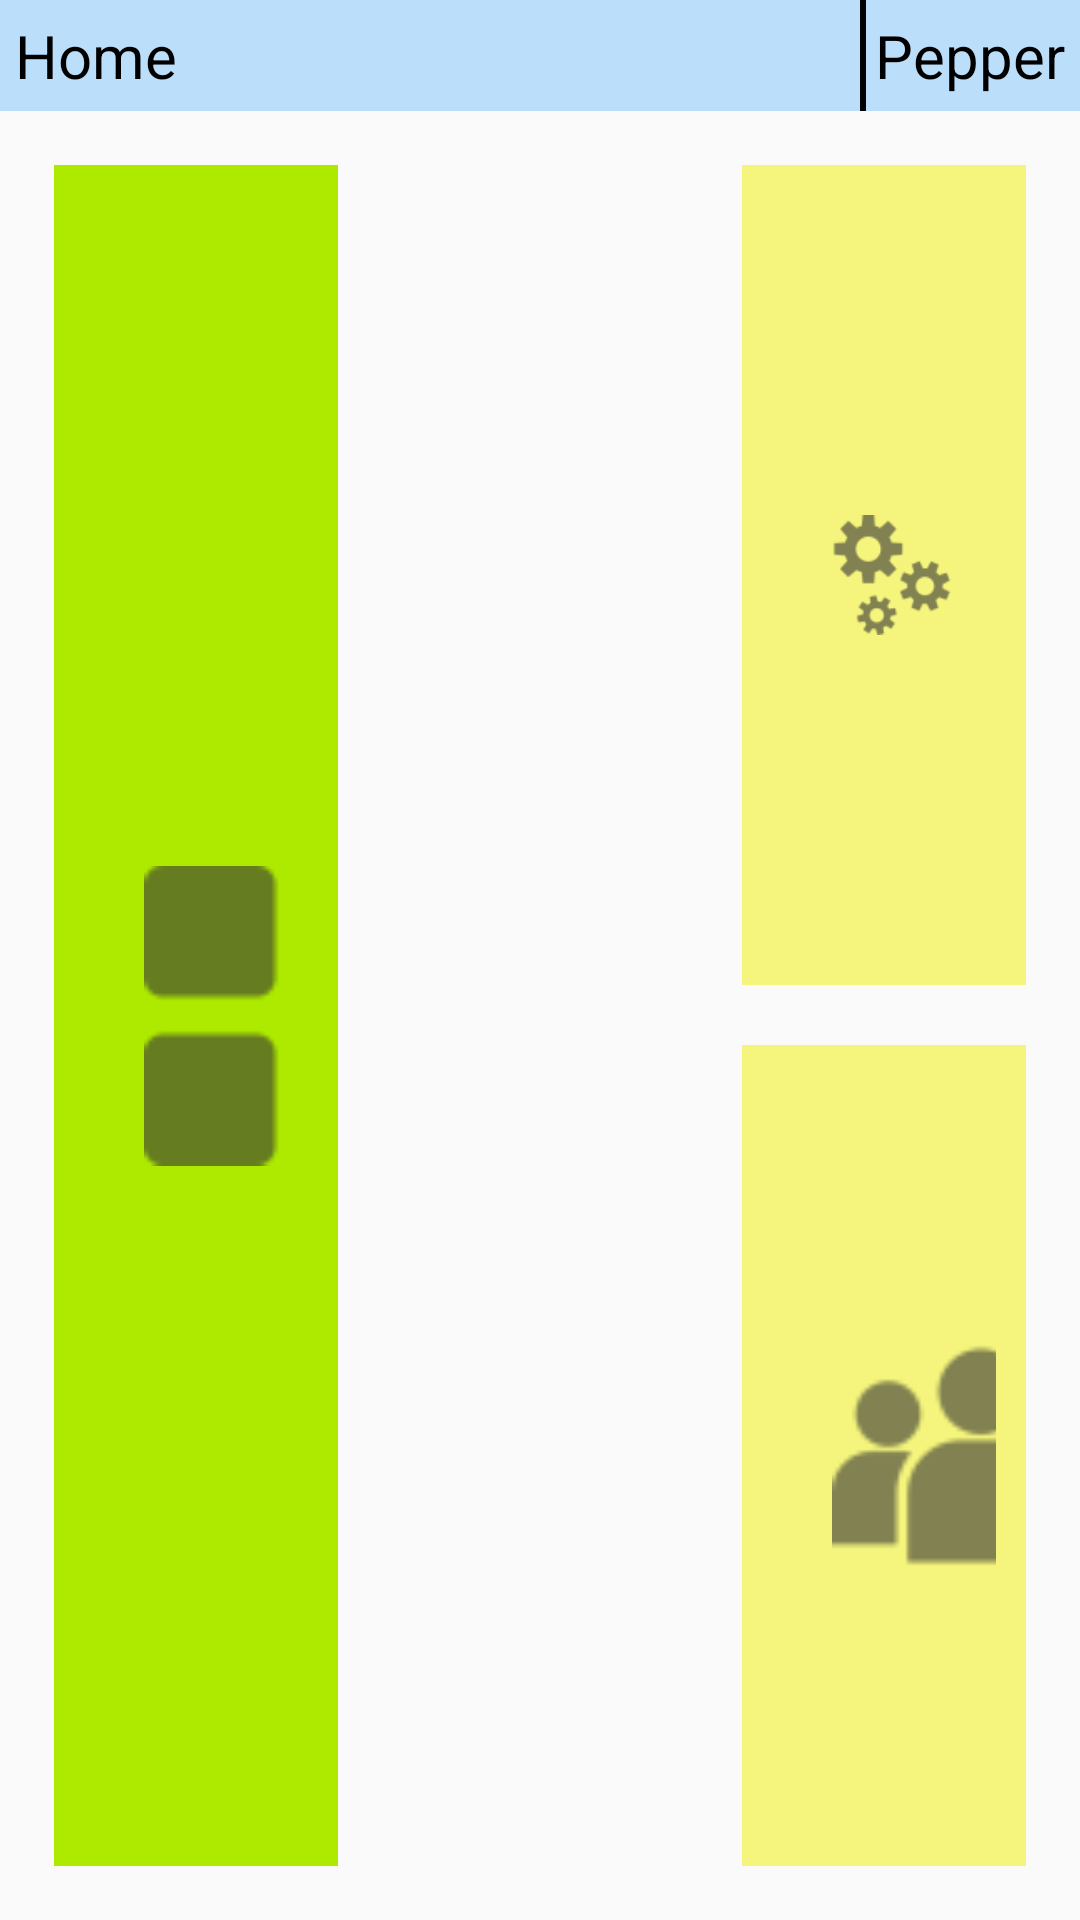

Where icons sit on this 1080 x 1920 app screen, as (x1, y1, x2, y2):
settings: (833, 515, 950, 635)
